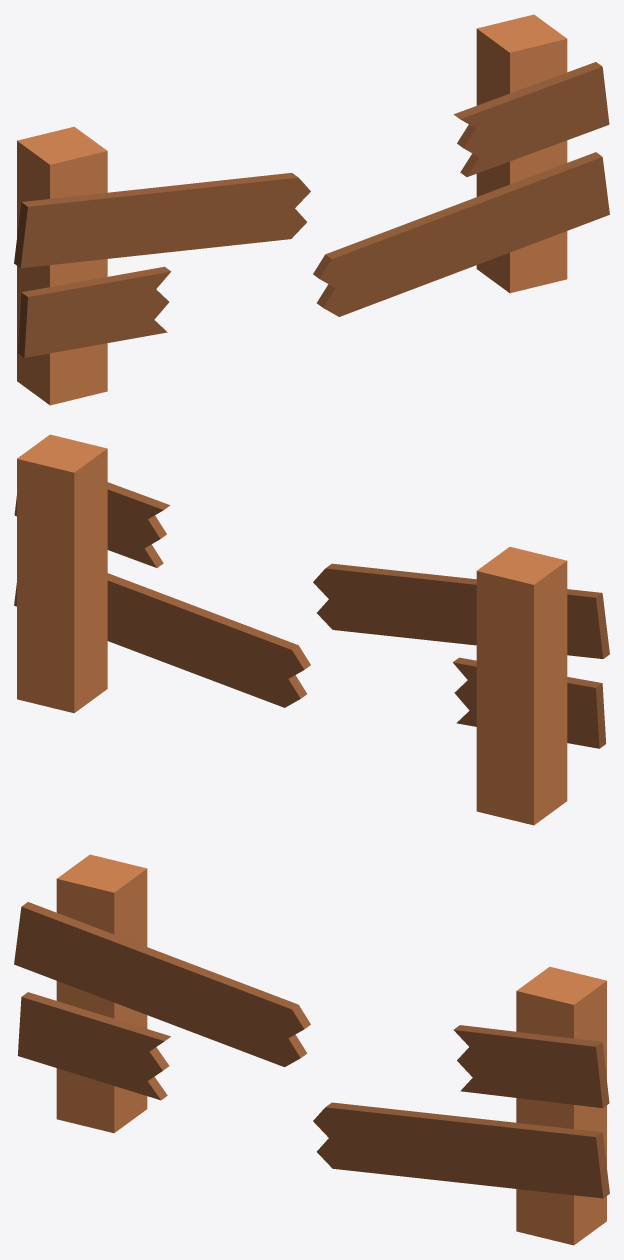
Rendered from fenceBroken.obj.
3 views of the same model, one above another, from view 1: azimuth 30°, elevation 25°; view 2: azimuth 150°, elevation 25°; view 3: azimuth 330°, elevation 25° (orthographic).
Parts seen in each view (by area): view 1: fenceBroken; view 2: fenceBroken; view 3: fenceBroken.
Boxes of the visible parts, x1=… form: fenceBroken: x1=14, y1=14, x2=609, y2=405; fenceBroken: x1=14, y1=434, x2=609, y2=825; fenceBroken: x1=14, y1=854, x2=609, y2=1245.
Bounding box in the file's own units: 1.03 × 0.4 × 0.12.
